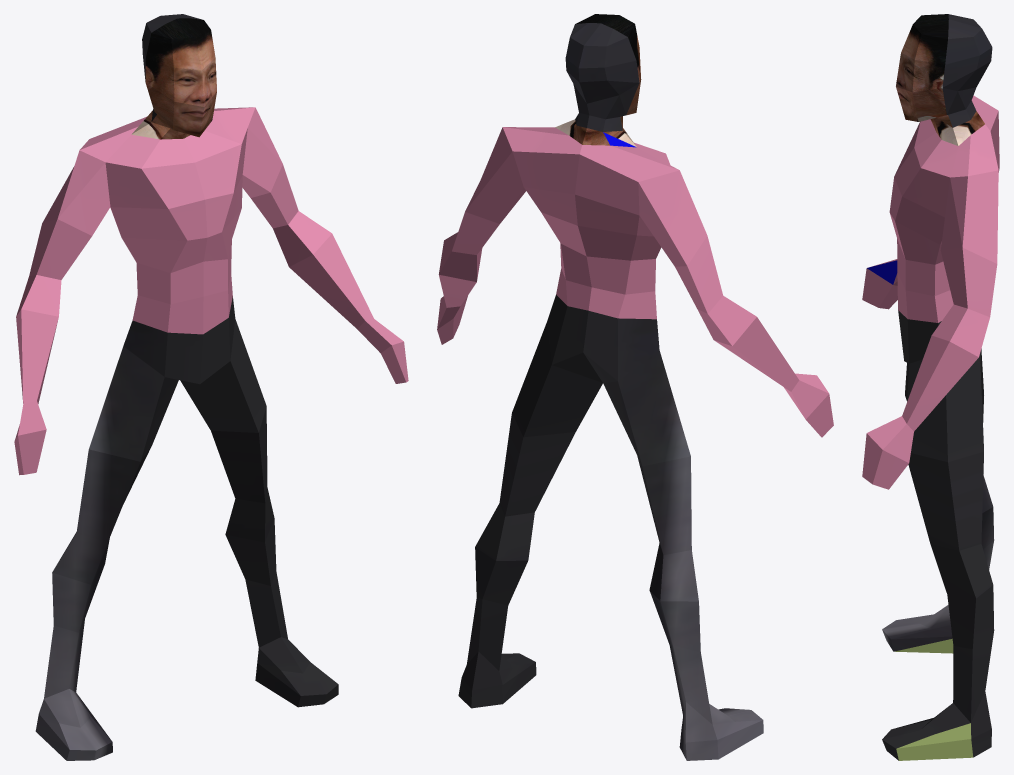
3 views of the same model, side by side, from view 1: azimuth 30°, elevation 25°; view 2: azimuth 150°, elevation 25°; view 3: azimuth 270°, elevation 25° (orthographic). The views are drawn at different scales.
Visible parts, largest first — view 1: BASE_Low_Poly_Man_Cube.001; view 2: BASE_Low_Poly_Man_Cube.001; view 3: BASE_Low_Poly_Man_Cube.001.
Boxes of the visible parts, <box> form: BASE_Low_Poly_Man_Cube.001: <box>14,14,408,760</box>; BASE_Low_Poly_Man_Cube.001: <box>437,14,833,760</box>; BASE_Low_Poly_Man_Cube.001: <box>862,14,999,760</box>.
Size of the model in its own units: 317 by 542 by 99.74.
